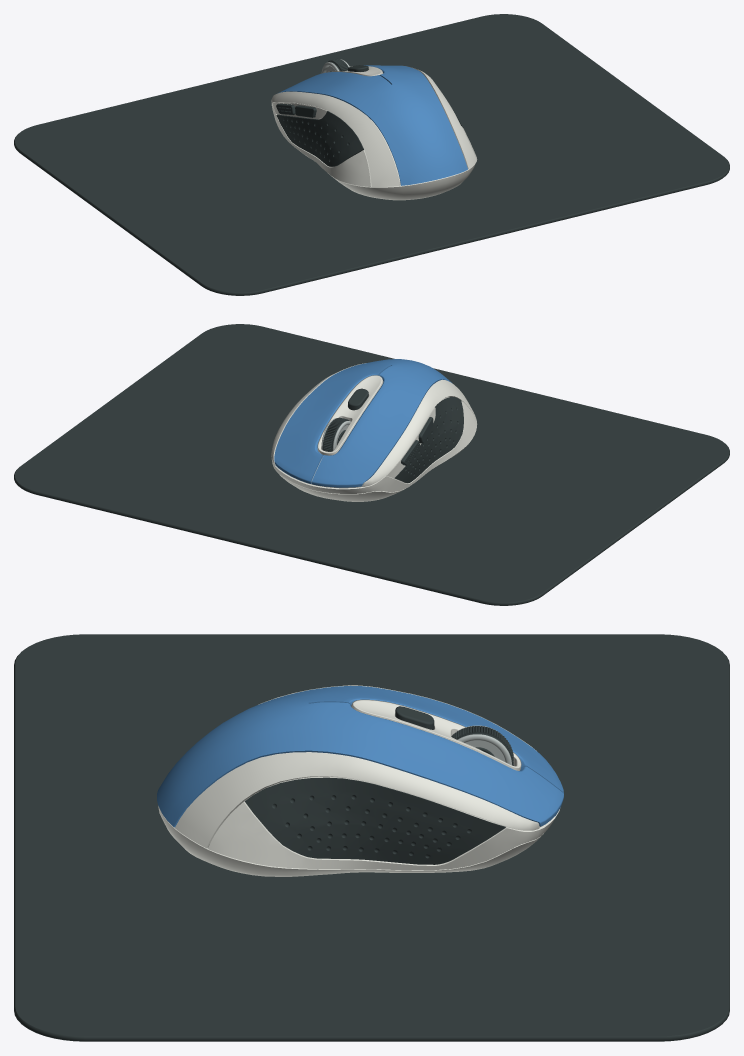
The model's file is computer_mouse_office_b01.glb.
3 renders of one model, top to bottom at view 1: azimuth 30°, elevation 25°; view 2: azimuth 150°, elevation 25°; view 3: azimuth 270°, elevation 25°, orthographic. The views are drawn at different scales.
Size of the model in its own units: 0.254 by 0.0408 by 0.1906.
